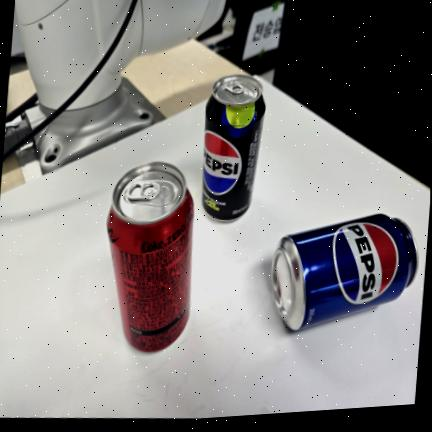can_coke_zero: (107, 162, 193, 351)
can_pepsi: (271, 213, 418, 330)
can_pepsi_zero: (201, 75, 265, 221)
